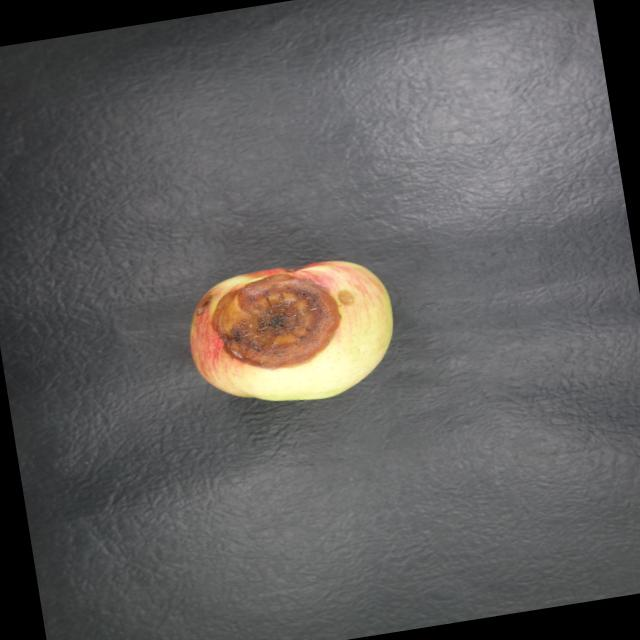rotten: (169, 233, 423, 426)
